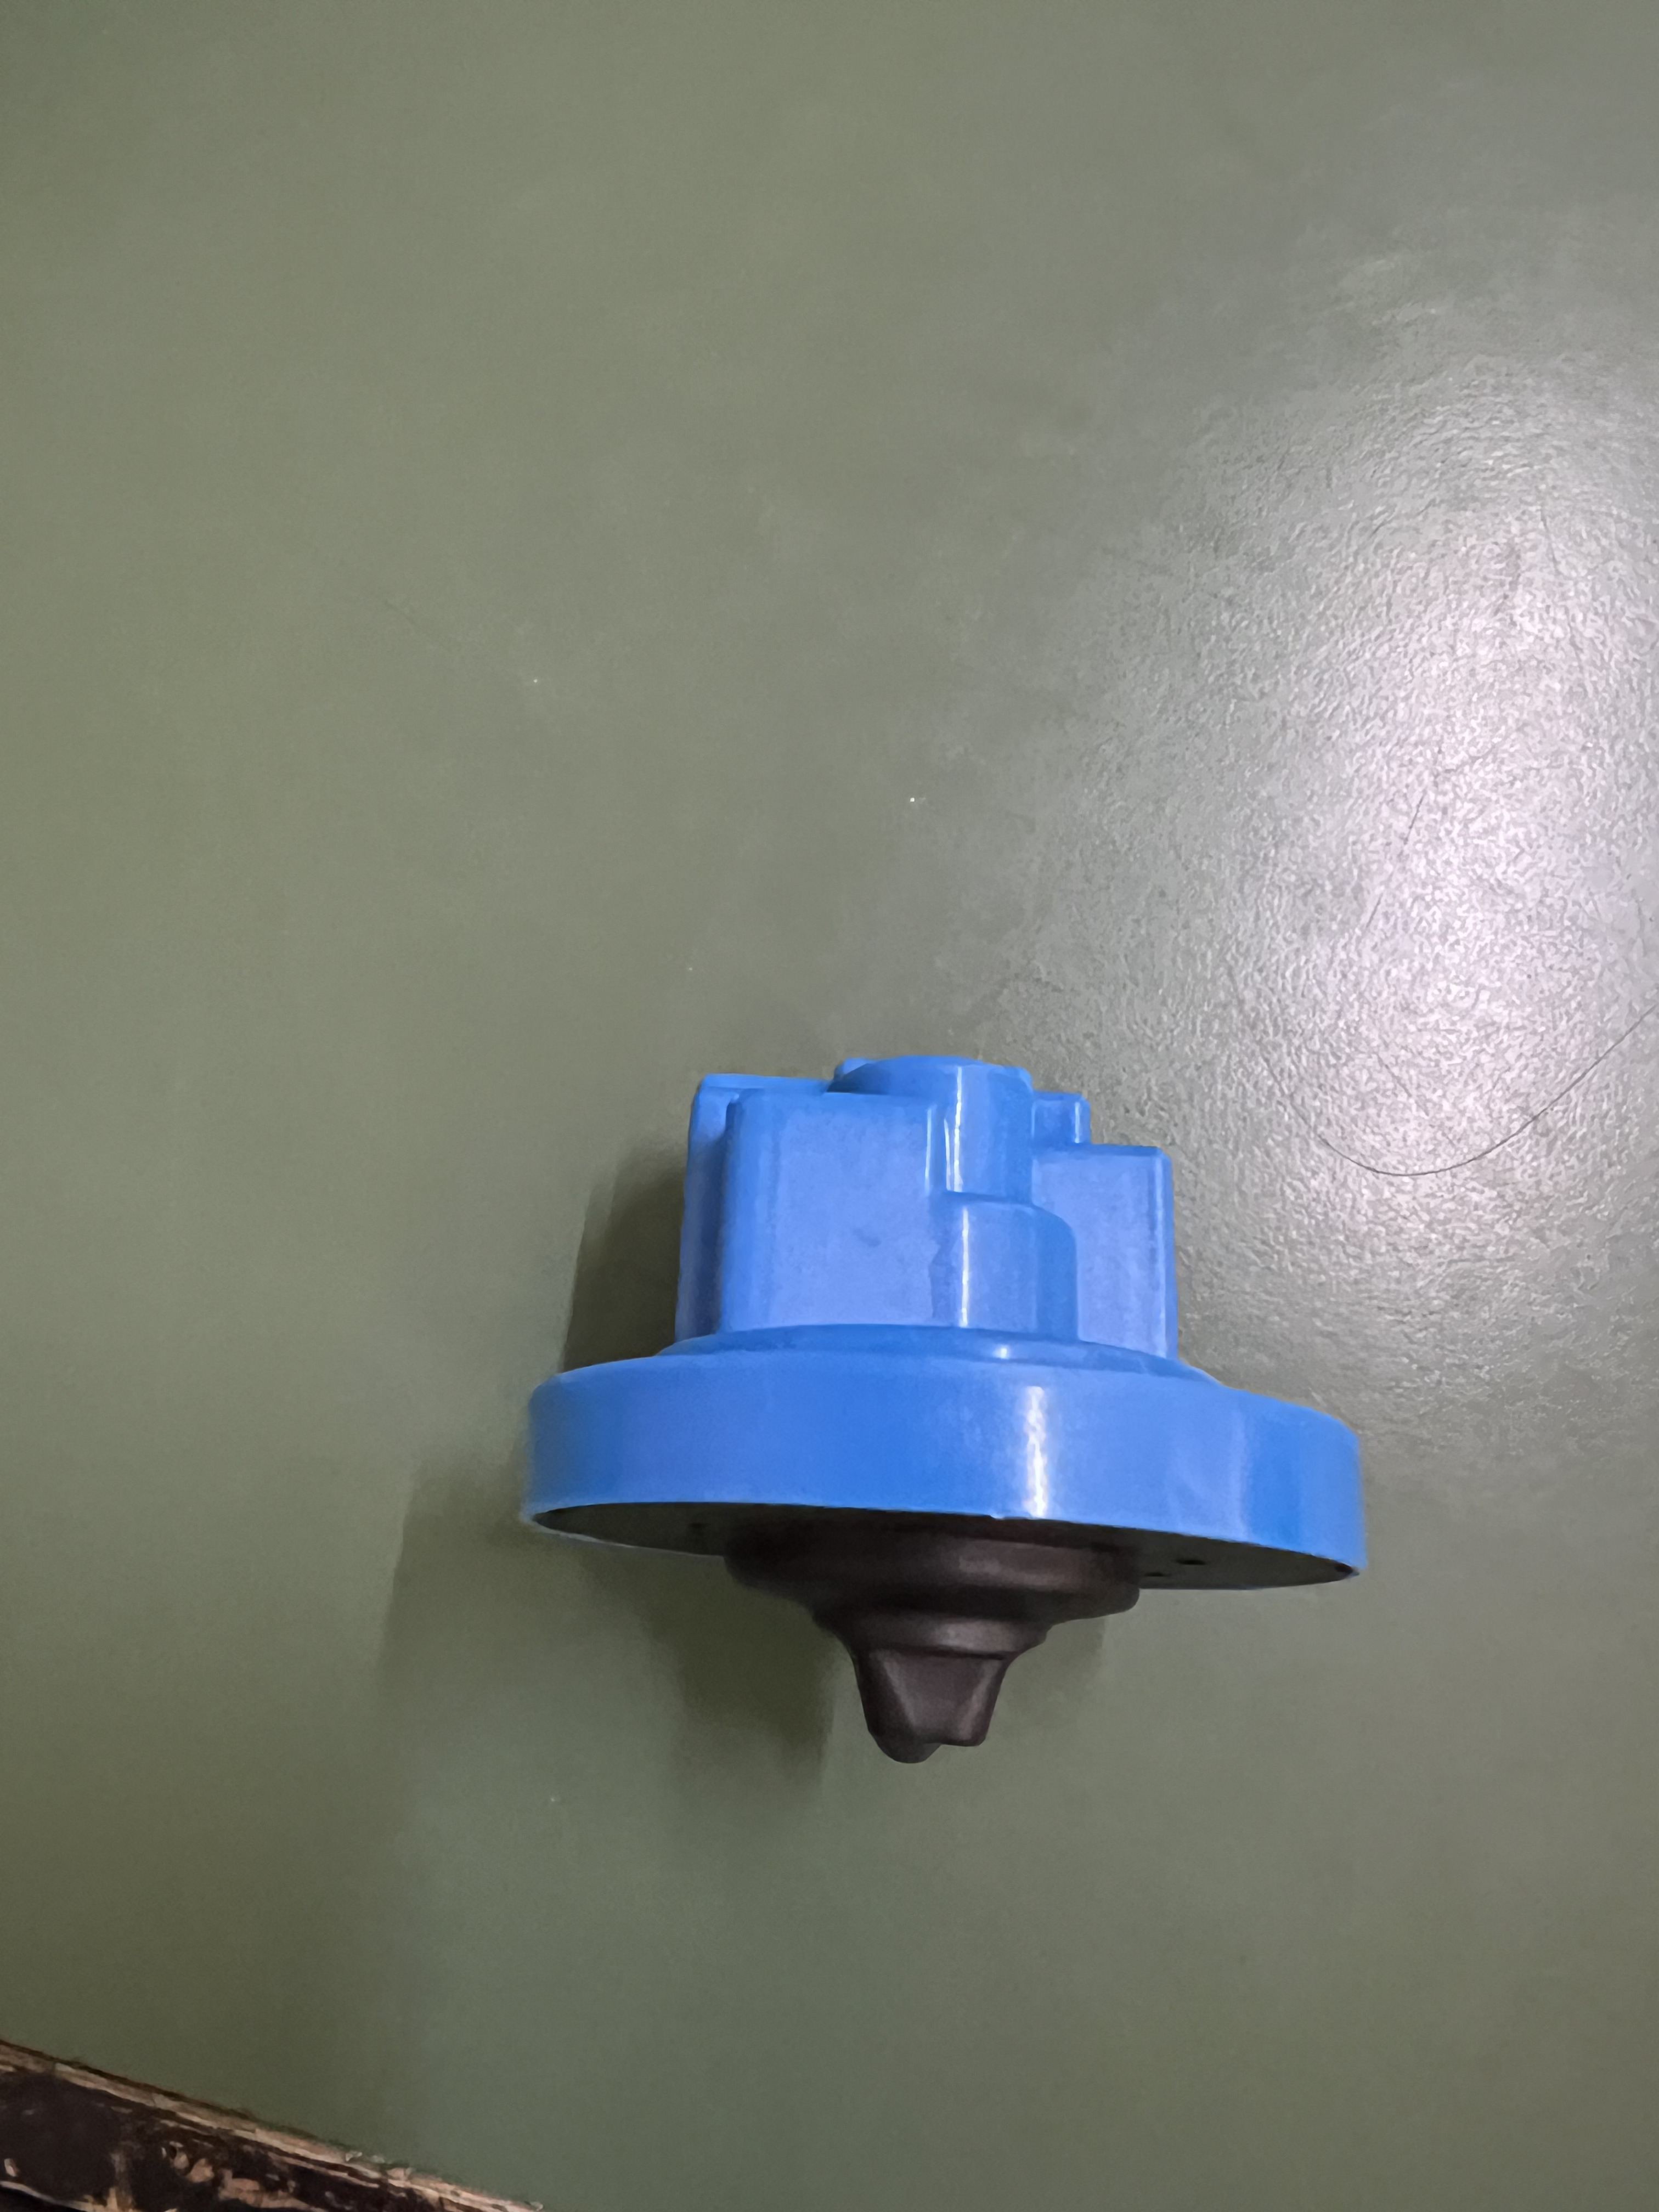voltas_beko_pressure_switch: (490, 1035, 1398, 1770)
